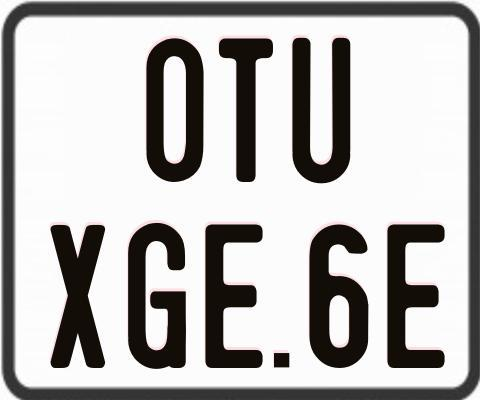0: (144, 35, 204, 181)
6: (307, 221, 366, 365)
E: (384, 221, 446, 369), (205, 221, 263, 371)
G: (126, 222, 184, 370)
T: (216, 35, 274, 184)
U: (291, 37, 353, 188)
X: (48, 222, 109, 371)
